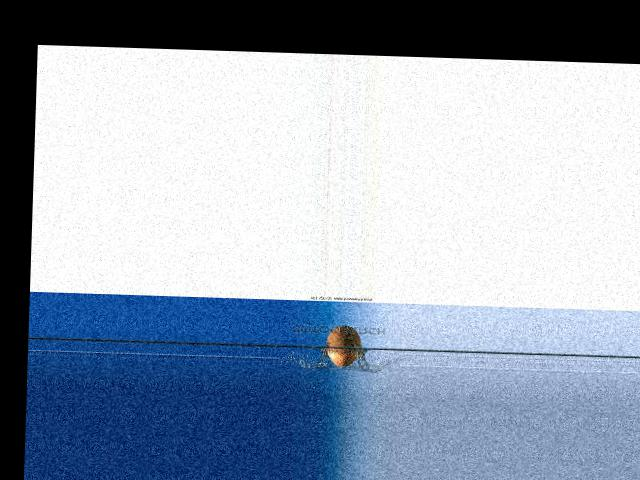egg: (326, 325, 362, 367)
